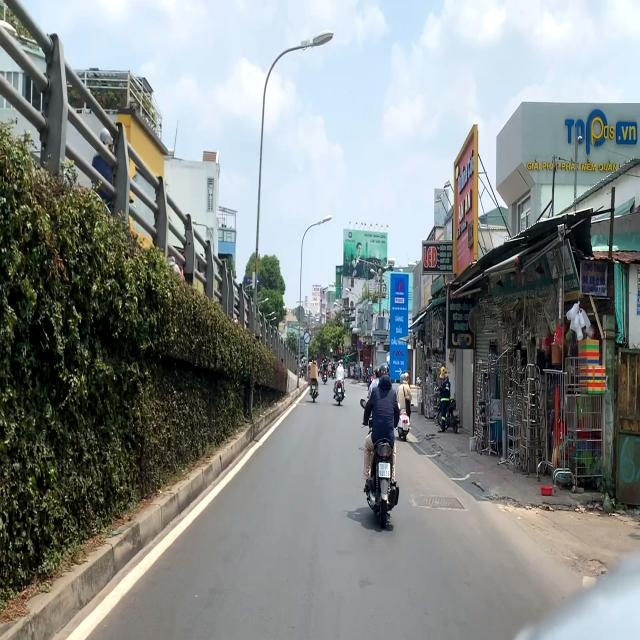bien_cam: (304, 332, 310, 344), (357, 340, 363, 350)
